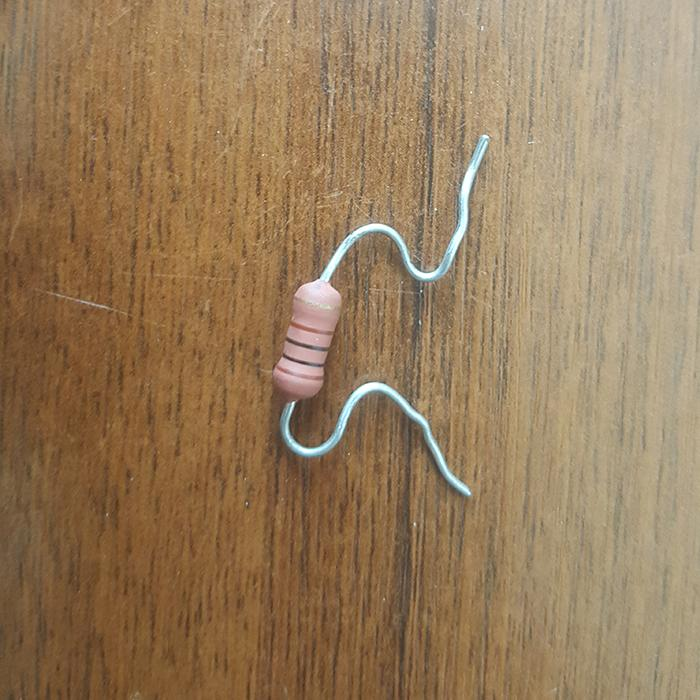resistor: (272, 279, 342, 401)
